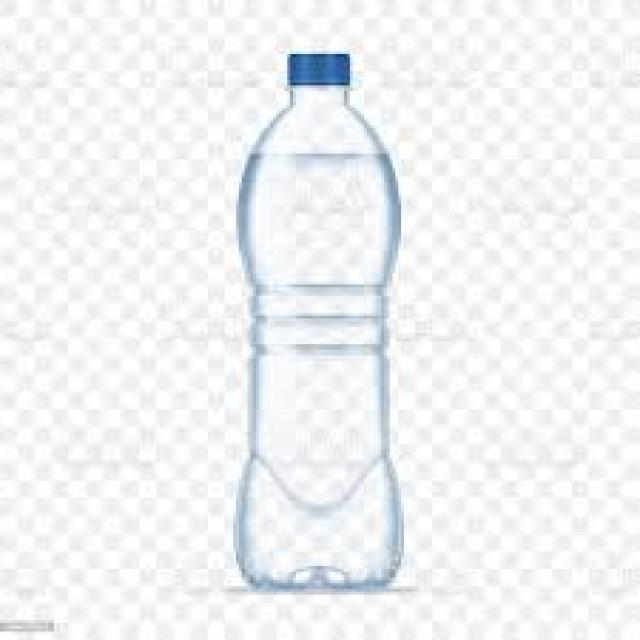Plastic: (232, 54, 404, 592)
